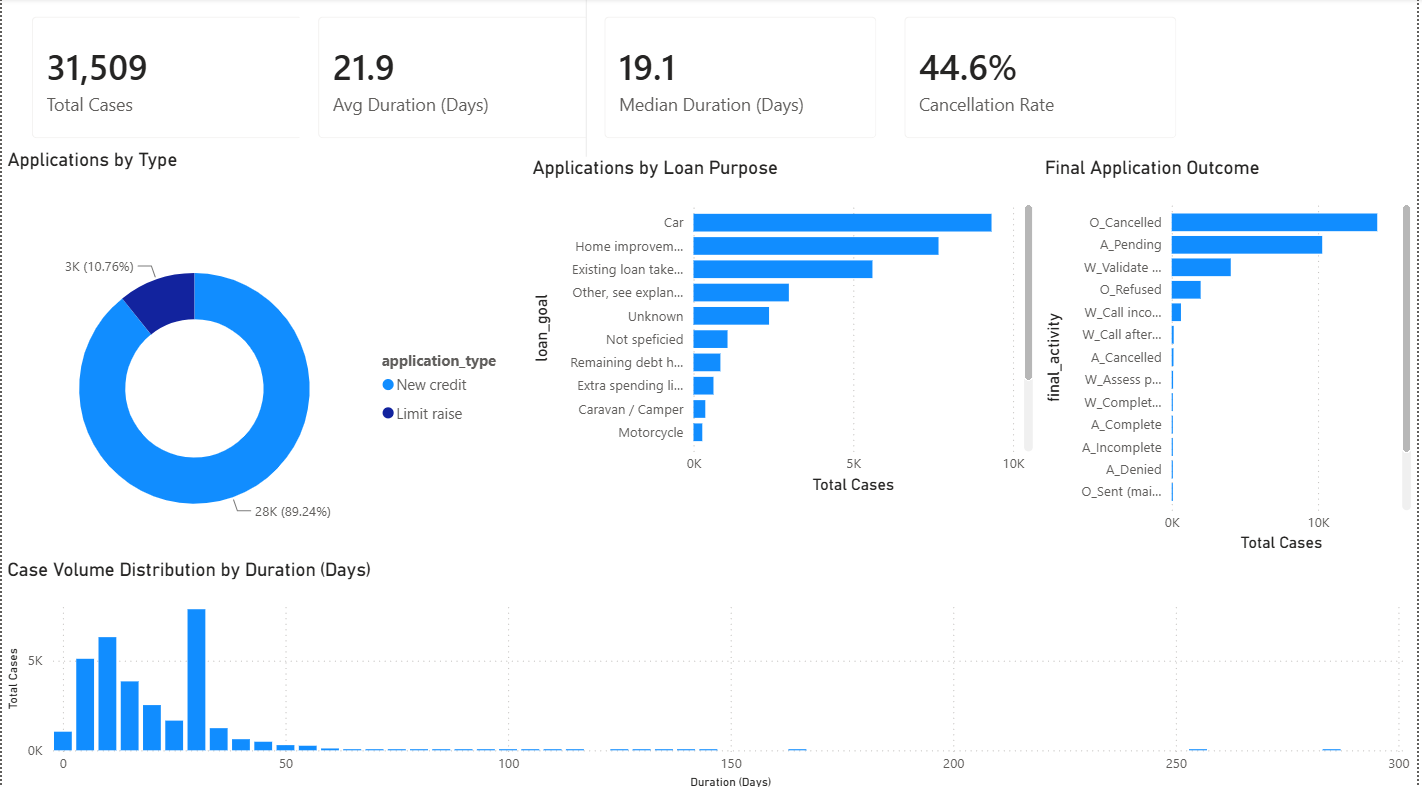

This screenshot's page, from the dashboard's own definition file:
{"tool":"powerbi","page":{"name":"Executive Overview","canvas":[1280,720],"ordinal":0},"visuals":[{"type":"cardVisual","fields":{"Data":["analytics case_summary.Total Cases"]},"box":[10.5,0,279.1,144.2],"z":0},{"type":"cardVisual","fields":{"Data":["analytics case_summary.Avg Duration (Days)"]},"box":[268.6,0,279.1,144.2],"z":1000},{"type":"cardVisual","fields":{"Data":["analytics case_summary.Median Duration (Days)"]},"box":[527.9,0,280.2,144.2],"z":2000},{"type":"cardVisual","fields":{"Data":["analytics case_summary.Cancellation Rate"]},"box":[798.8,0,280.2,144.2],"z":3000},{"type":"donutChart","title":"Applications by Type","fields":{"Category":["analytics case_summary.application_type"],"Y":["analytics case_summary.Total Cases"]},"box":[0,136,467.4,404.7],"z":4000},{"type":"clusteredBarChart","title":"Applications by Loan Purpose","fields":{"Category":["analytics case_summary.loan_goal"],"Y":["analytics case_summary.Total Cases"]},"box":[475,143.8,462.8,309.3],"z":5000},{"type":"clusteredBarChart","title":"Final Application Outcome","fields":{"Category":["analytics case_summary.final_activity"],"Y":["analytics case_summary.Total Cases"]},"box":[938.8,143.8,341.2,362.5],"z":6000},{"type":"clusteredColumnChart","title":"Case Volume Distribution by Duration (Days)","fields":{"Category":["analytics case_summary.duration_days (bins)"],"Y":["analytics case_summary.Total Cases"]},"box":[0,506.2,1278.8,213.8],"z":7000}]}

Visuals, with their boxes in screenshot pixels (x1, y1, x2, y2), scaled from the page's 1280x720 canvas onto the 1422x787 screenshot:
cardVisual - analytics case_summary.Total Cases: [12, 0, 322, 158]
cardVisual - analytics case_summary.Avg Duration (Days): [298, 0, 608, 158]
cardVisual - analytics case_summary.Median Duration (Days): [586, 0, 898, 158]
cardVisual - analytics case_summary.Cancellation Rate: [887, 0, 1199, 158]
"Applications by Type" donutChart: [0, 149, 519, 591]
"Applications by Loan Purpose" clusteredBarChart: [528, 157, 1042, 495]
"Final Application Outcome" clusteredBarChart: [1043, 157, 1421, 553]
"Case Volume Distribution by Duration (Days)" clusteredColumnChart: [0, 553, 1421, 786]
